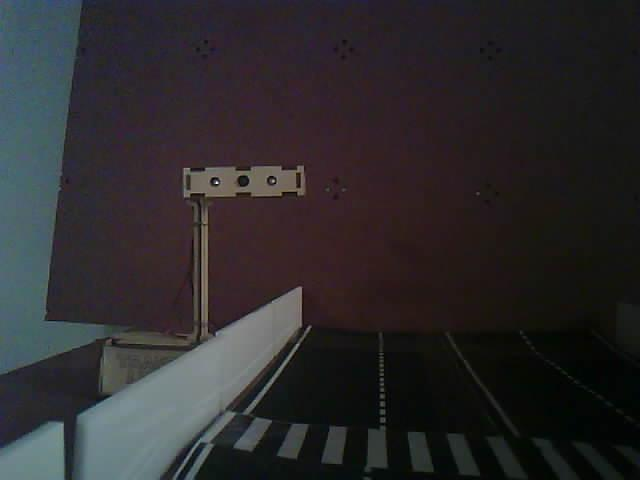crosswalk: (164, 389, 640, 480)
no: (154, 157, 337, 215)
